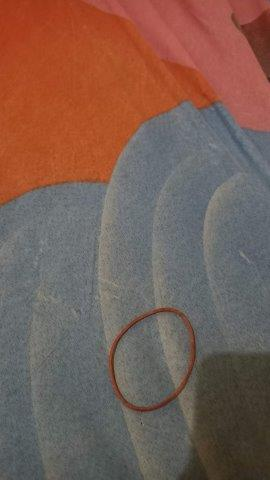karet: (108, 307, 196, 413)
